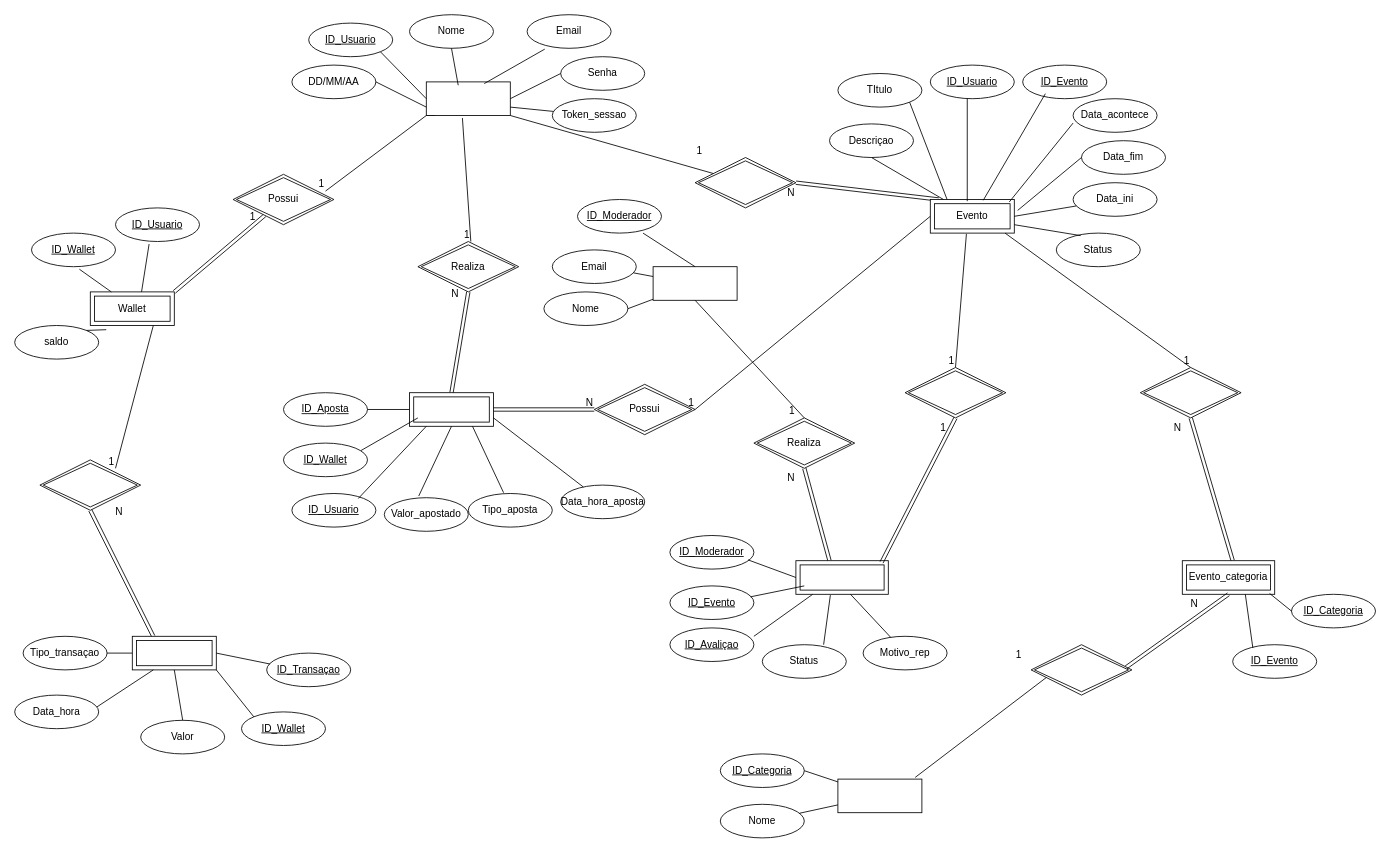
The diagram is 1390 pixels wide and 853 high, and some of its shapes have lost their labels. The centre of each missing label's shape, as x and y in pixels:
Apostas: point (451, 409)
Avaliado_por: point (955, 392)
Avaliaçao_evento: point (841, 577)
Categoria: point (879, 795)
Classifica: point (1081, 669)
Cria: point (745, 182)
Historico de transaçao: point (173, 652)
Moderador: point (694, 283)
Pertence: point (1190, 392)
Registra: point (90, 484)
Usuario: point (467, 98)
